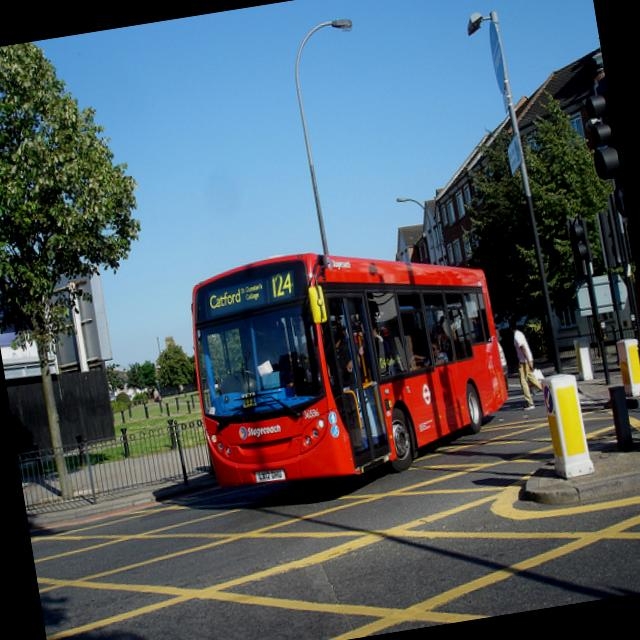Vehicle: (178, 226, 520, 504)
